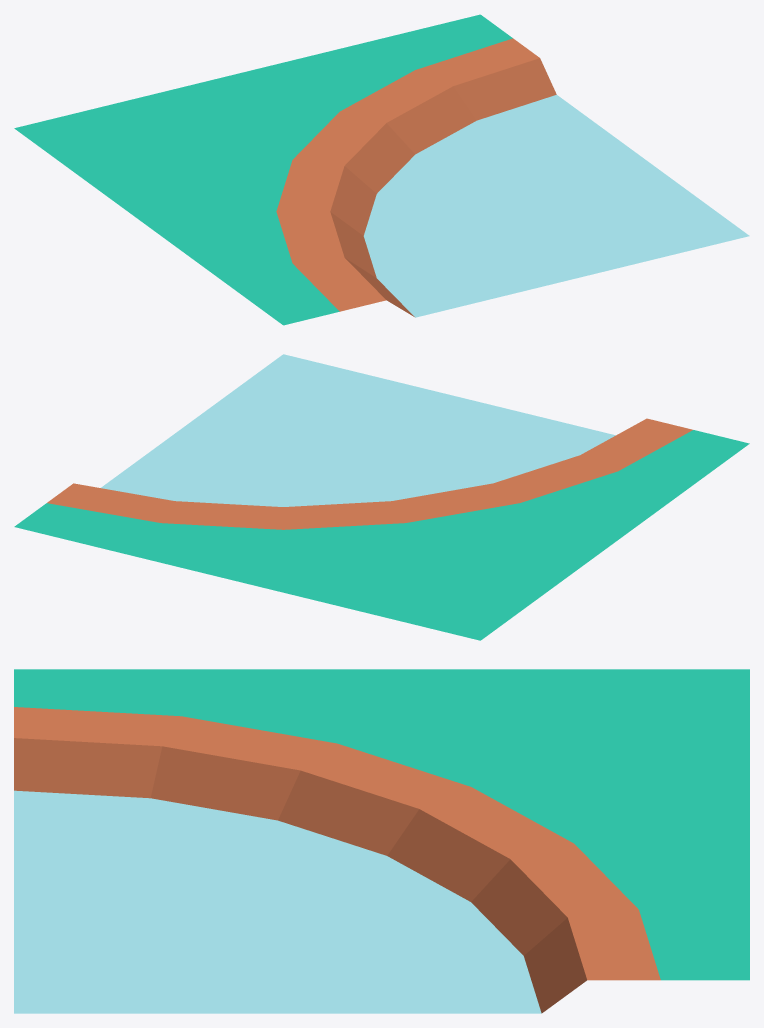
The model's file is ground_riverCorner.glb.
3 views of the same model, one above another, from view 1: azimuth 30°, elevation 25°; view 2: azimuth 150°, elevation 25°; view 3: azimuth 270°, elevation 25° (orthographic). The views are drawn at different scales.
Parts seen in each view (by area): view 1: ground_riverCorner; view 2: ground_riverCorner; view 3: ground_riverCorner.
Boxes of the visible parts, x1,y1,x2,y2 form: ground_riverCorner: (14, 14, 749, 325); ground_riverCorner: (14, 354, 749, 640); ground_riverCorner: (14, 669, 749, 1013).
Size of the model in its own units: 1 by 0.05 by 1.
